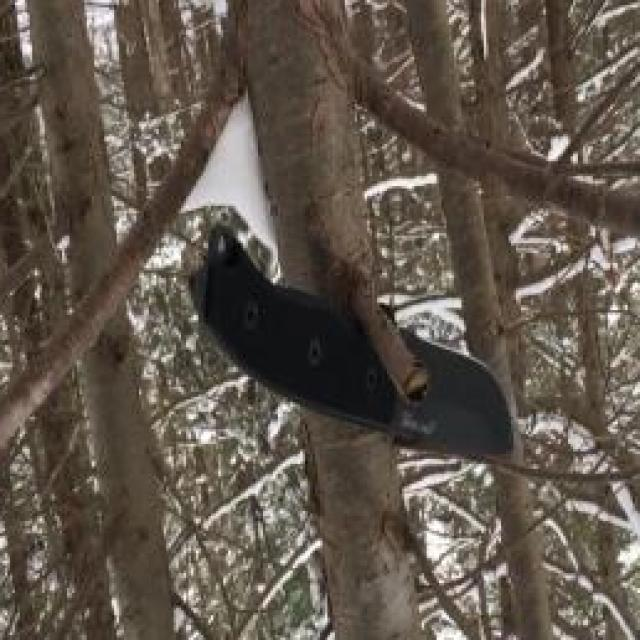knife: (296, 283, 526, 469)
